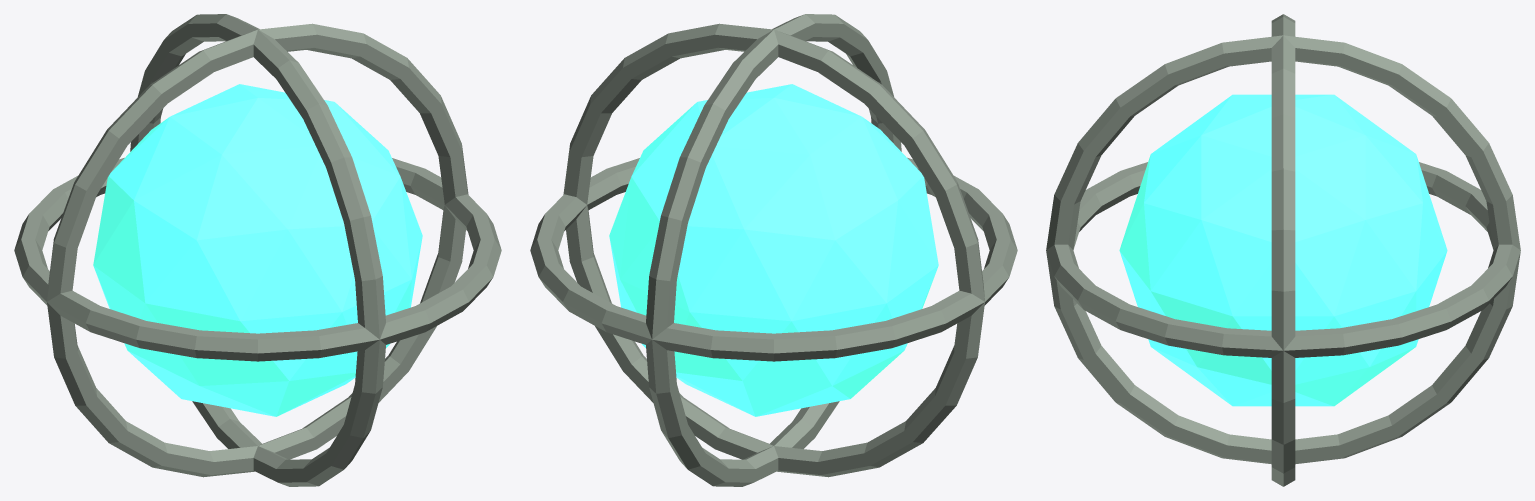
Rendered from shot_plasmacore.glb.
3 renders of one model, left to right at view 1: azimuth 30°, elevation 25°; view 2: azimuth 150°, elevation 25°; view 3: azimuth 270°, elevation 25°, orthographic. The views are drawn at different scales.
Visible parts, largest first — view 1: shot_plasmacore_ArmorEdges.008, shot_plasmacore_Neon.003; view 2: shot_plasmacore_ArmorEdges.008, shot_plasmacore_Neon.003; view 3: shot_plasmacore_Neon.003, shot_plasmacore_ArmorEdges.008.
Boxes of the visible parts, x1,y1,x2,y2 form: shot_plasmacore_ArmorEdges.008: (14,14,501,486); shot_plasmacore_Neon.003: (93,84,422,416); shot_plasmacore_ArmorEdges.008: (530,14,1017,486); shot_plasmacore_Neon.003: (609,84,938,416); shot_plasmacore_Neon.003: (1119,94,1447,406); shot_plasmacore_ArmorEdges.008: (1046,14,1520,486).
Bounding box in the file's own units: 1.91 × 1.91 × 1.91.
